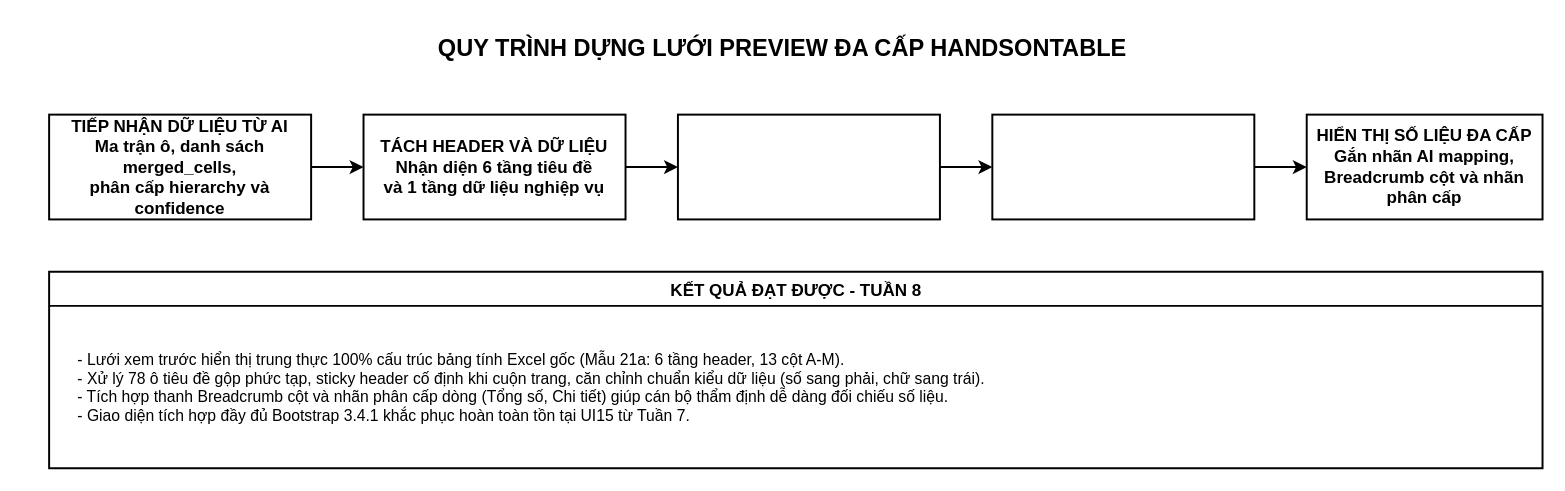
Image size: 1565x491. Some labels were removed from this diagram. Here are the shapes that lost their labels. From the top down, the centre of each, then its label:
At (x=808, y=166): "TÁI TẠO MERGED CELLS Gộp ô đa tầng ngang/dọc theo cấu trúc bảng Excel gốc".
At (x=1123, y=166): "KHỞI TẠO HANDSONTABLE Cố định sticky headers, custom borders và renderers".
